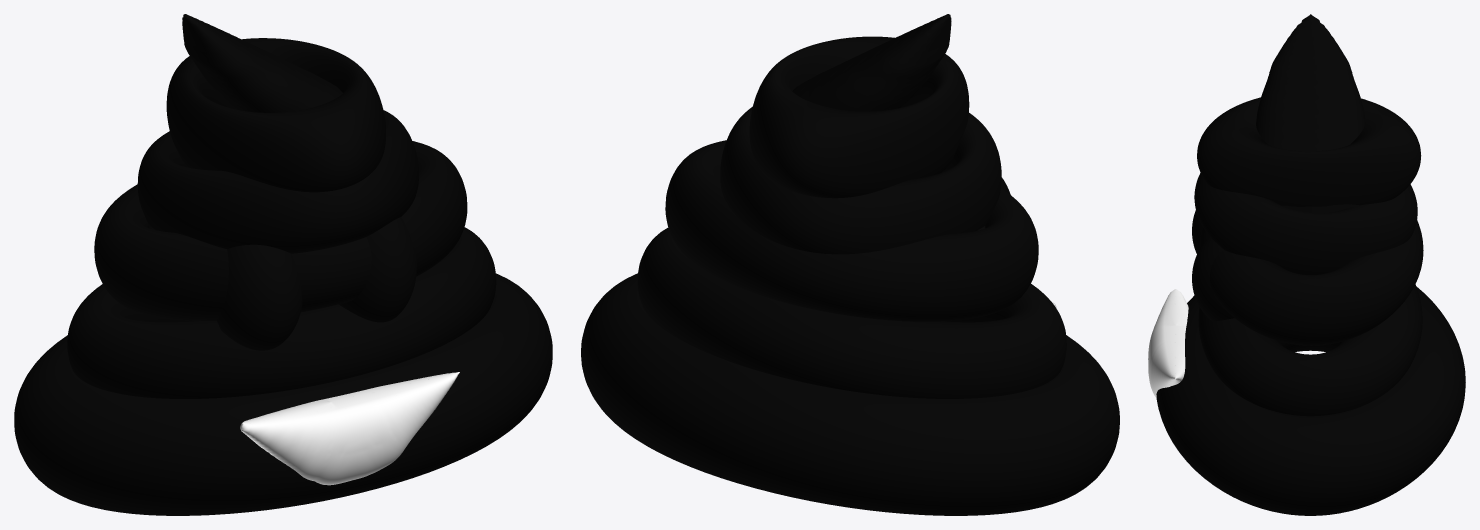
Rendered from UnicornPoop.glb.
3 views of the same model, side by side, from view 1: azimuth 30°, elevation 25°; view 2: azimuth 150°, elevation 25°; view 3: azimuth 270°, elevation 25° (orthographic). The views are drawn at different scales.
Visible parts, largest first — view 1: node_id33, node_id36, node_id39, node_id45, node_id42, node_id30, node_id48, node_id51, node_id54; view 2: node_id33, node_id36, node_id39, node_id45, node_id42, node_id48; view 3: node_id33, node_id45, node_id36, node_id39, node_id42, node_id48, node_id30, node_id54.
Part boxes in pixels (x1,y1,x2,y2): node_id33: (14,273,552,515); node_id36: (67,227,496,398); node_id39: (94,141,467,321); node_id45: (166,38,385,192); node_id42: (137,110,418,253); node_id30: (240,372,459,485); node_id48: (147,14,342,229); node_id51: (216,244,302,350); node_id54: (339,217,416,322); node_id33: (581,273,1119,515); node_id36: (637,228,1066,398); node_id39: (665,140,1038,321); node_id45: (749,36,969,198); node_id42: (720,107,1001,254); node_id48: (792,14,985,230); node_id33: (1156,286,1465,515); node_id45: (1197,97,1421,206); node_id36: (1198,284,1422,416); node_id39: (1199,220,1423,345); node_id42: (1194,173,1417,274); node_id48: (1256,14,1365,213); node_id30: (1148,289,1188,398); node_id54: (1192,236,1234,321).
Bounding box in the file's own units: 0.512 × 0.4388 × 0.3365.
Materials: 9 (9 with a texture image).
